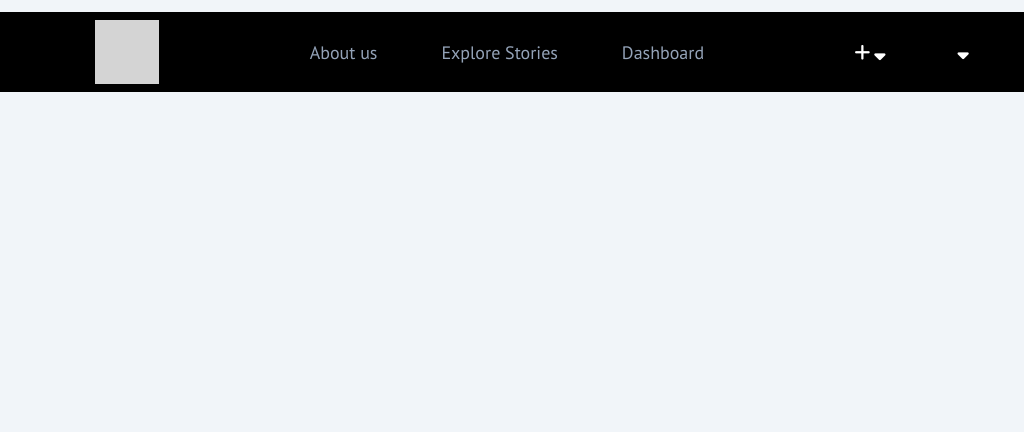
Test: HeaderSignIn › when clicking profile button › should render your characters link
Click the 2nd button: (927, 52) [886, 28, 969, 76]
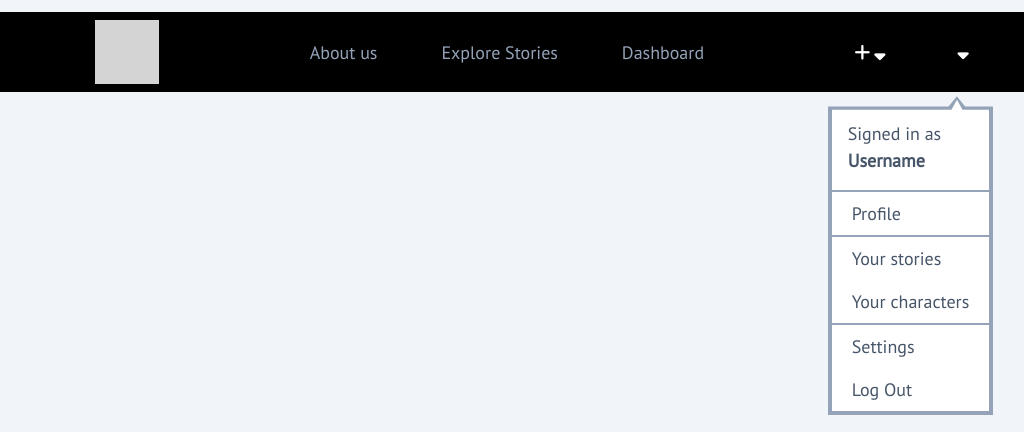
Expected: the link "Your characters" is shown, [852, 290, 969, 313]
